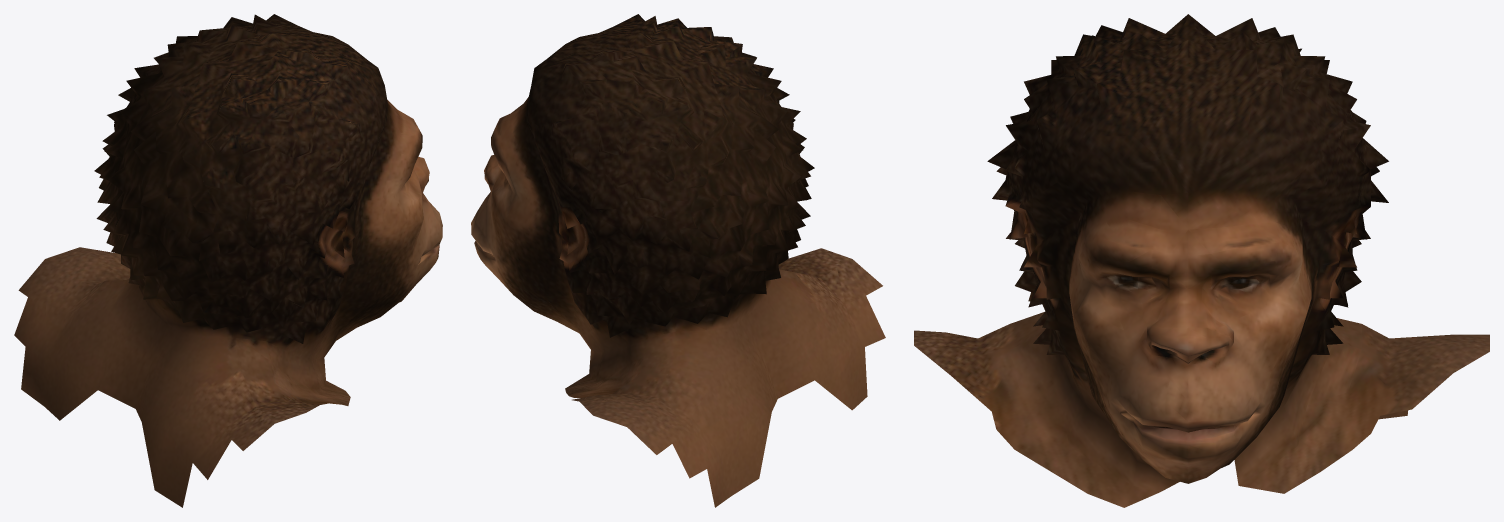
Rendered from pithecanthropus-kepala.glb.
3 views of the same model, side by side, from view 1: azimuth 30°, elevation 25°; view 2: azimuth 150°, elevation 25°; view 3: azimuth 270°, elevation 25° (orthographic). The views are drawn at different scales.
Visible parts, largest first — view 1: Kepala; view 2: Kepala; view 3: Kepala.
Part boxes in pixels (<box>): Kepala: <box>14,14,442,507</box>; Kepala: <box>471,14,885,507</box>; Kepala: <box>914,14,1489,507</box>.
Size of the model in its own units: 0.2051 by 0.2266 by 0.2461.
Materials: 1 (1 with a texture image).
